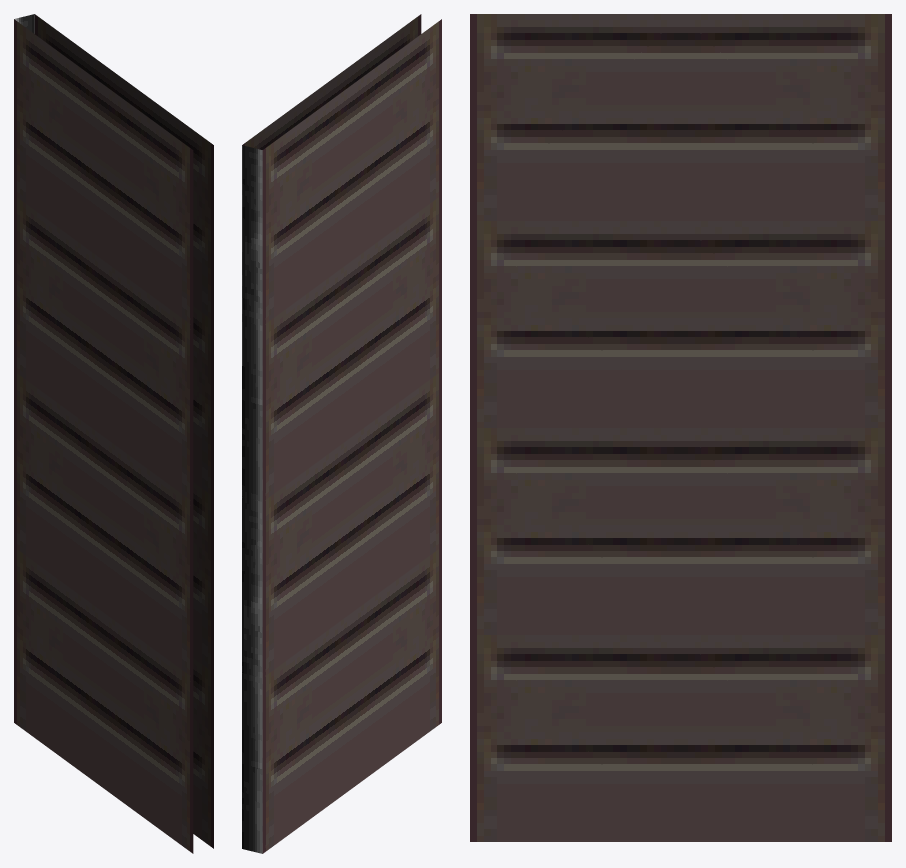
File: primary_18.glb
3 views of the same model, side by side, from view 1: azimuth 30°, elevation 25°; view 2: azimuth 150°, elevation 25°; view 3: azimuth 270°, elevation 25° (orthographic). The views are drawn at different scales.
Visible parts, largest first — view 1: Object; view 2: Object; view 3: Object.
Boxes of the visible parts, <box> form: Object: <box>14,14,213,853</box>; Object: <box>242,14,441,853</box>; Object: <box>470,14,891,841</box>.
Bounding box in the file's own units: 0.096 × 3.12 × 1.44.
3 materials, 3 textured.
